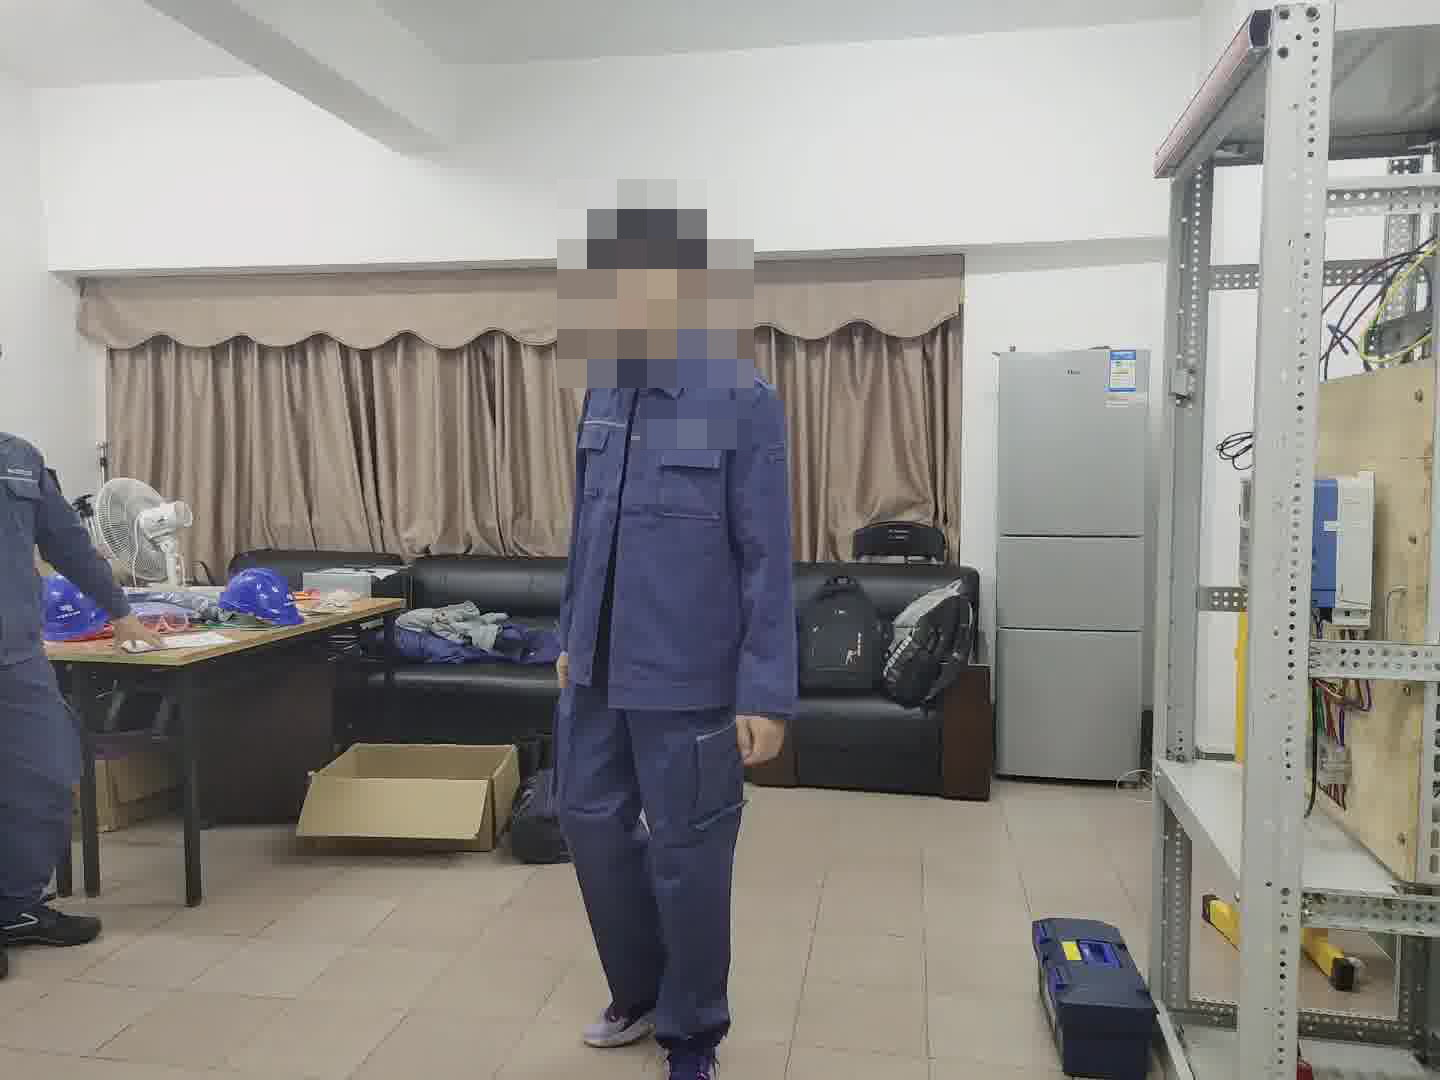downsuit: (562, 727, 746, 1064), (1, 670, 83, 915)
halt: (583, 200, 720, 349)
hand: (734, 715, 784, 766), (105, 613, 165, 653)
noear: (630, 248, 705, 333)
person: (521, 195, 803, 1080), (1, 338, 139, 953)
upsuit: (550, 348, 795, 707), (4, 434, 124, 655)
wrongsuit: (573, 379, 664, 689)
